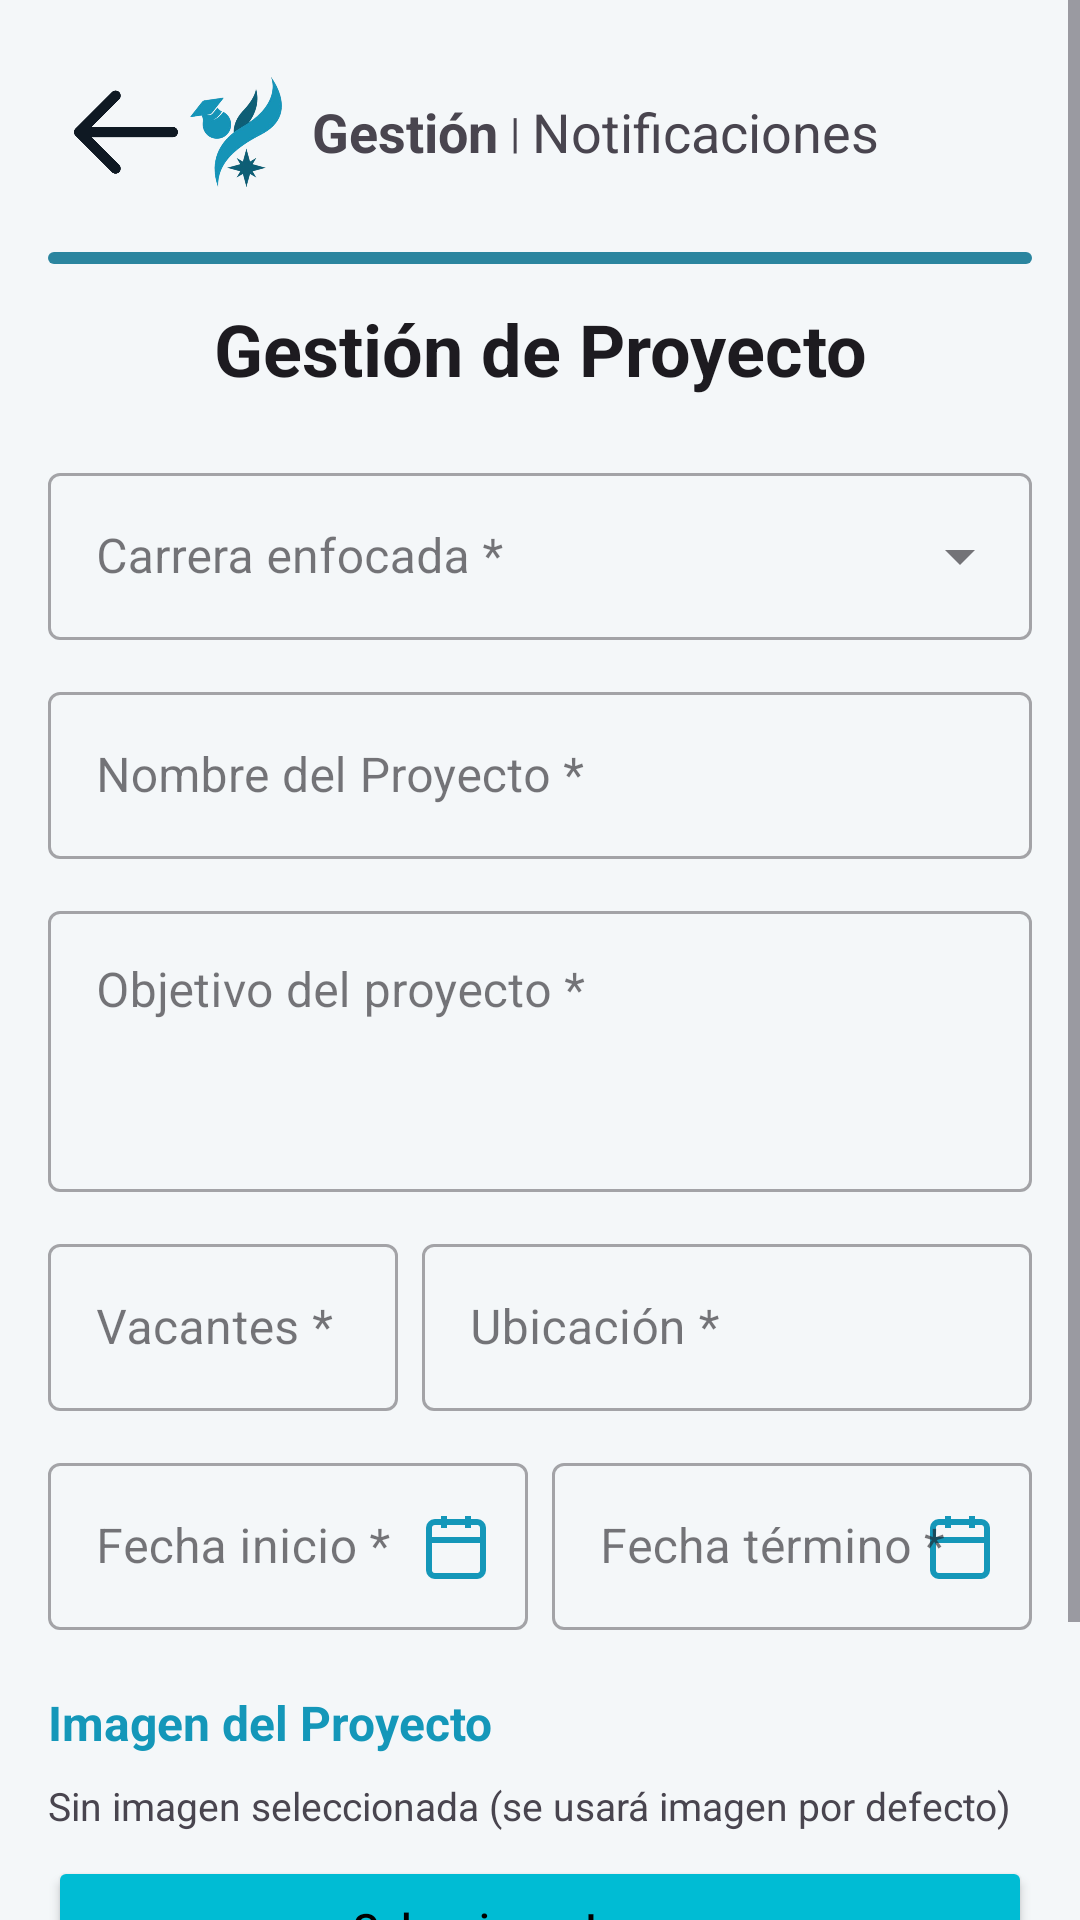

Point at icon controls on the screen. Image size 1080 × 1920, points as point (x, y).
Regresar: point (126, 132)
